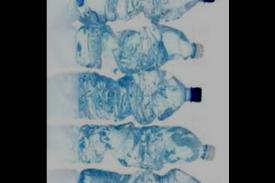Plastic: (70, 124, 219, 170), (70, 24, 205, 74), (74, 74, 203, 125), (68, 0, 222, 26), (72, 170, 224, 182)
